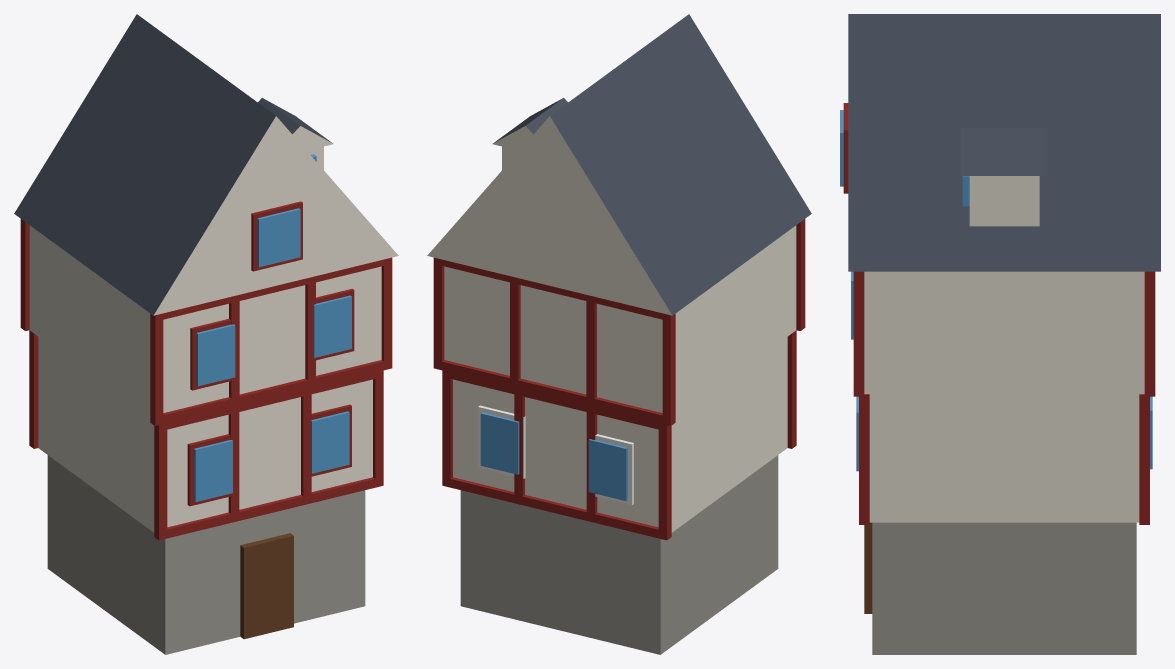
File: 22_mosel_house_1.obj
The picture shows the model from 3 angles, left to right: view 1: azimuth 30°, elevation 25°; view 2: azimuth 150°, elevation 25°; view 3: azimuth 270°, elevation 25°; orthographic projection. The views are drawn at different scales.
Visible parts, largest first — view 1: 22_mosel_house_1; view 2: 22_mosel_house_1; view 3: 22_mosel_house_1.
Boxes of the visible parts, x1,y1,x2,y2 form: 22_mosel_house_1: (14,14,398,654); 22_mosel_house_1: (427,14,811,654); 22_mosel_house_1: (840,14,1160,654).
Size of the model in its own units: 1.18 by 2.4 by 1.19.
